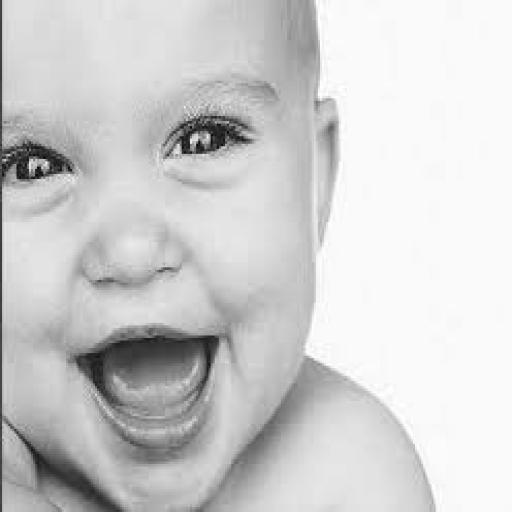laughing: (0, 0, 444, 509)
